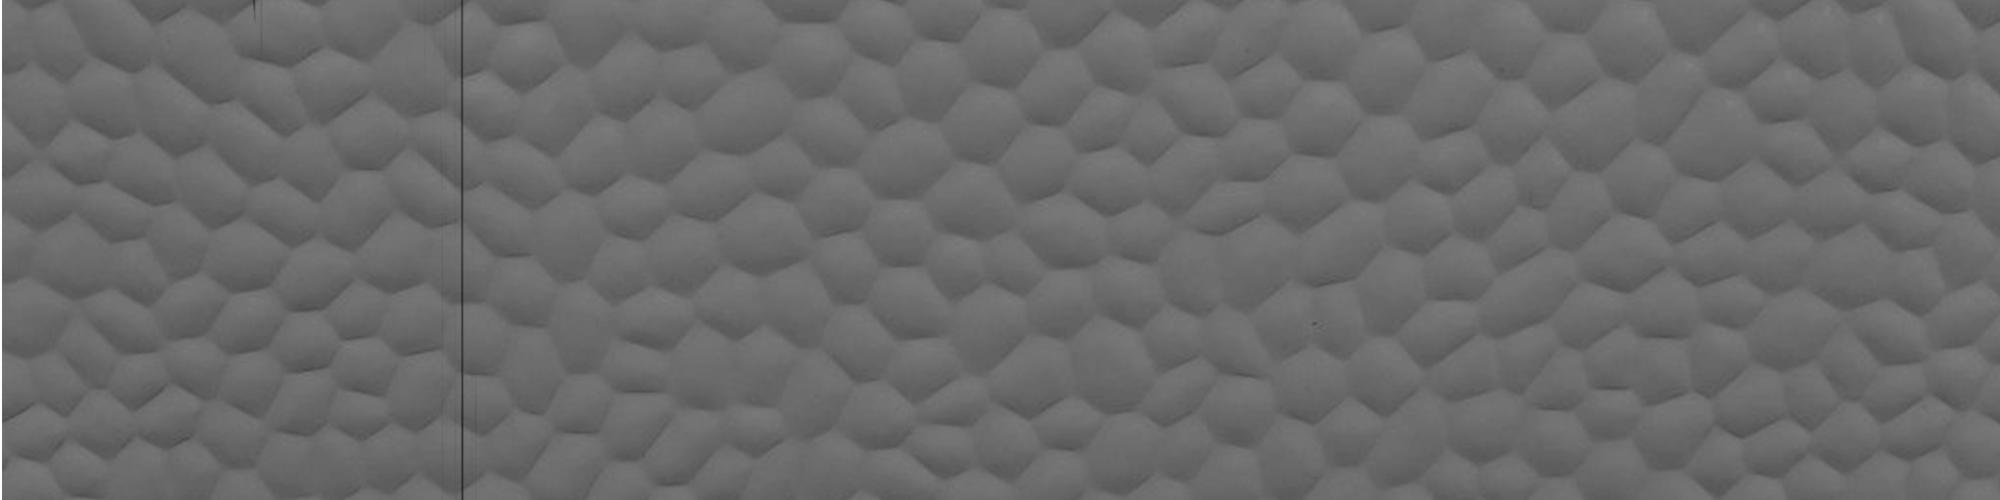DieDrag: (427, 4, 487, 497), (244, 4, 276, 59)
